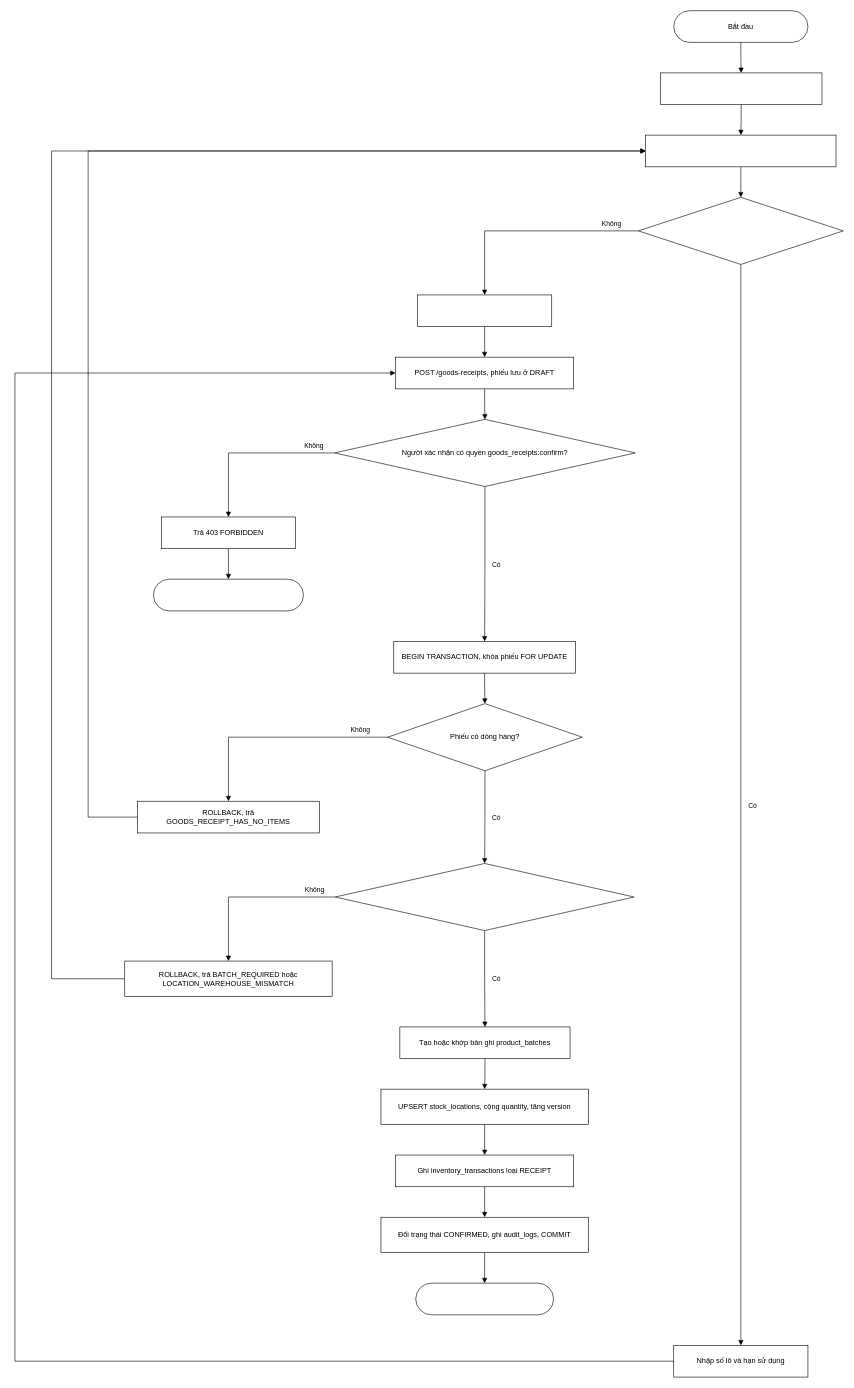
This 854x1388 diagram has some shape labels left out. Each missing label, with the centre of its shape:
"Bỏ qua thông tin lô" belongs at pixel 484 310.
"Dòng cần lô đã có batch_id và vị trí đúng kho?" belongs at pixel 484 897.
"Kết thúc: Nhập kho thành công" belongs at pixel 484 1299.
"Kết thúc: Phiếu giữ nguyên DRAFT" belongs at pixel 228 595.
"SKU bật requires_lot_tracking?" belongs at pixel 740 230.
"Thêm dòng hàng: SKU, số lượng, vị trí nhập" belongs at pixel 740 151.
"Tạo phiếu: chọn kho và nhà cung cấp" belongs at pixel 741 88.
